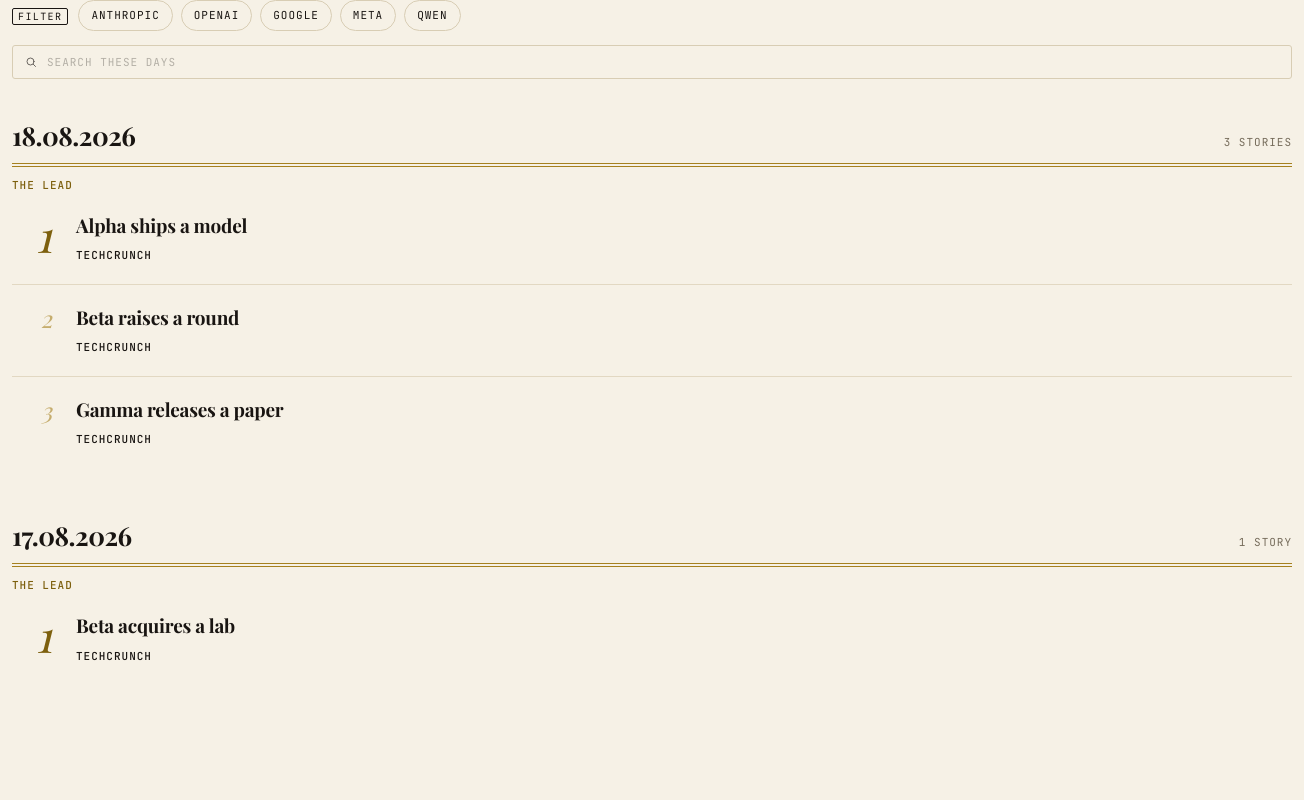
Test: LIVE_SEARCH_SCRIPT against the rendered feed › narrows entries to substring matches, renumbers visible folios 1..k, and rewrites the day count
Type "beta" into the field named "f".
click(663, 62); type("beta")  # box [47, 54, 1279, 70]
Wait 250 ms
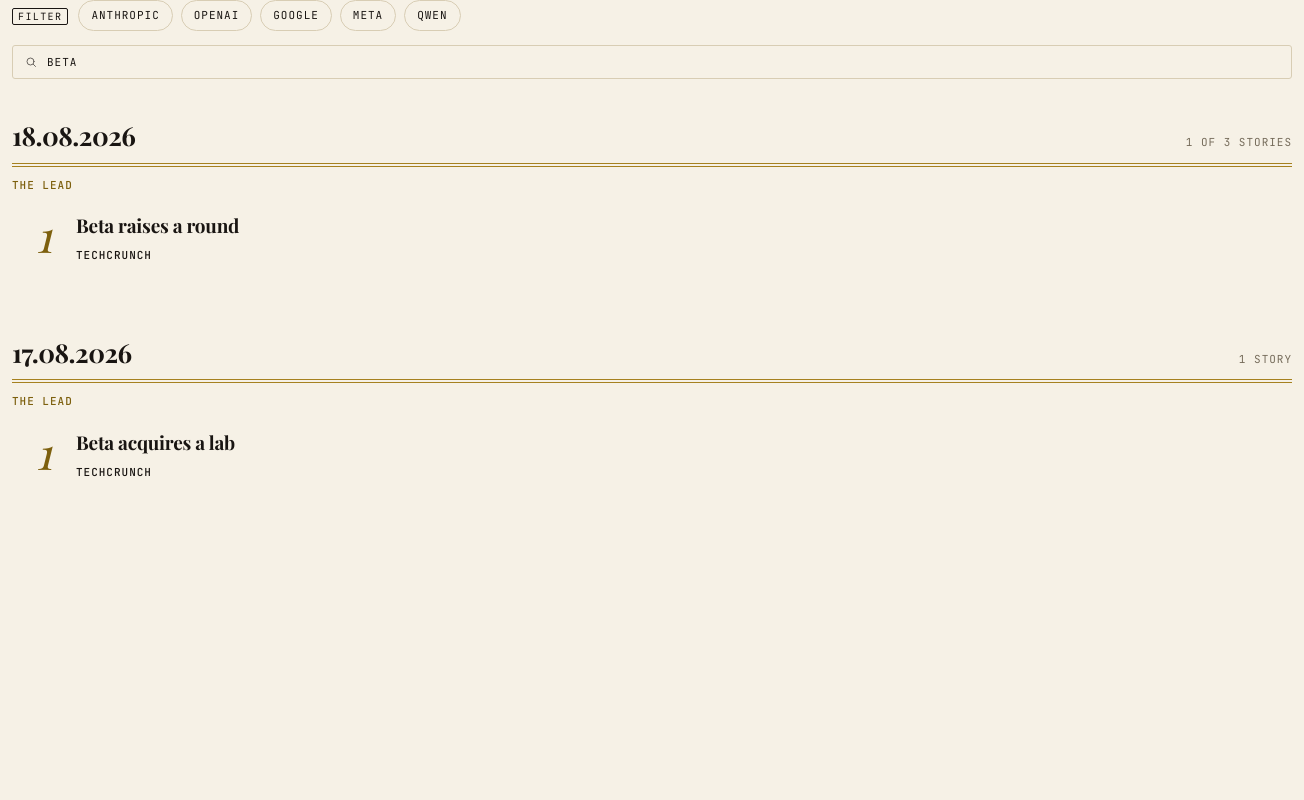
Expected: the text "1 story" is shown, [1239, 351, 1292, 367]
Expected: the text "1 of 3 stories" is shown, [1186, 134, 1292, 150]
